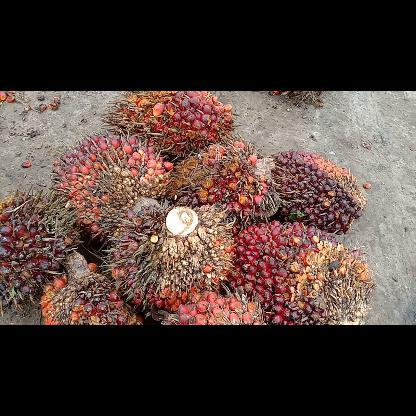TBS masak: (107, 195, 235, 309), (238, 222, 374, 324), (54, 136, 172, 240), (104, 91, 236, 163), (0, 190, 81, 307), (274, 149, 366, 235), (178, 143, 272, 225), (42, 254, 142, 324), (156, 292, 266, 324)
